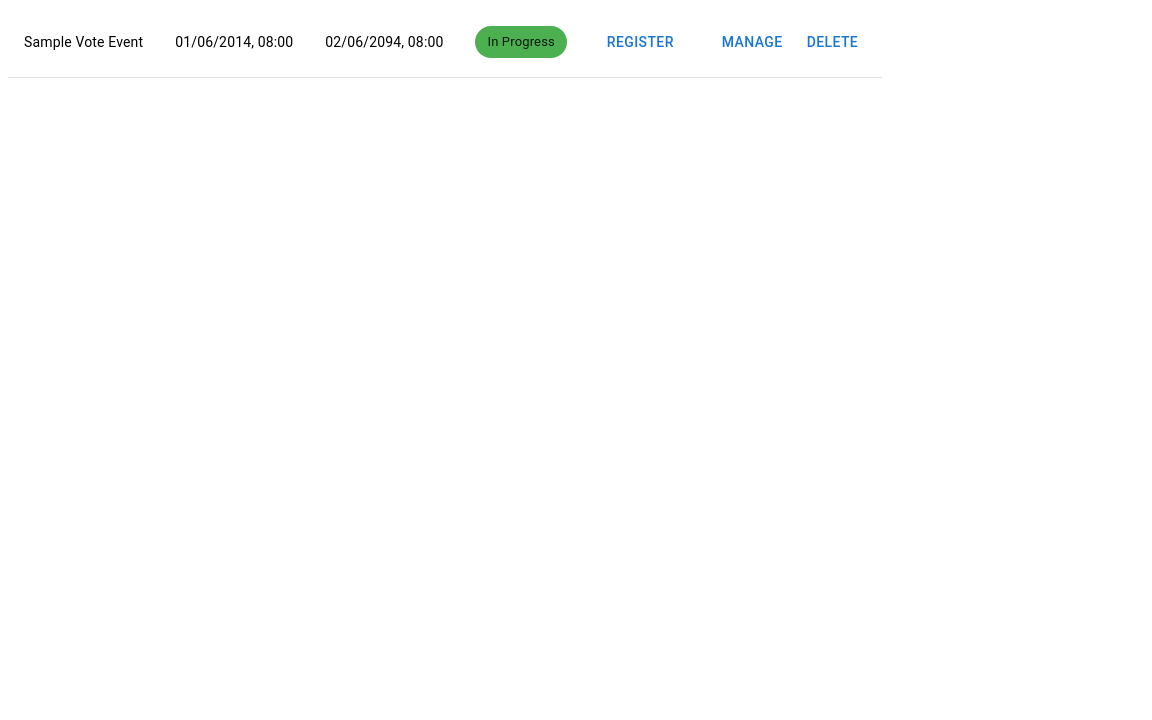
Test: <VoteEventRow /> › should have a register button if registration is open
This screenshot has width=1152, height=720.
Click the button "Register": (641, 43) [599,24,682,61]
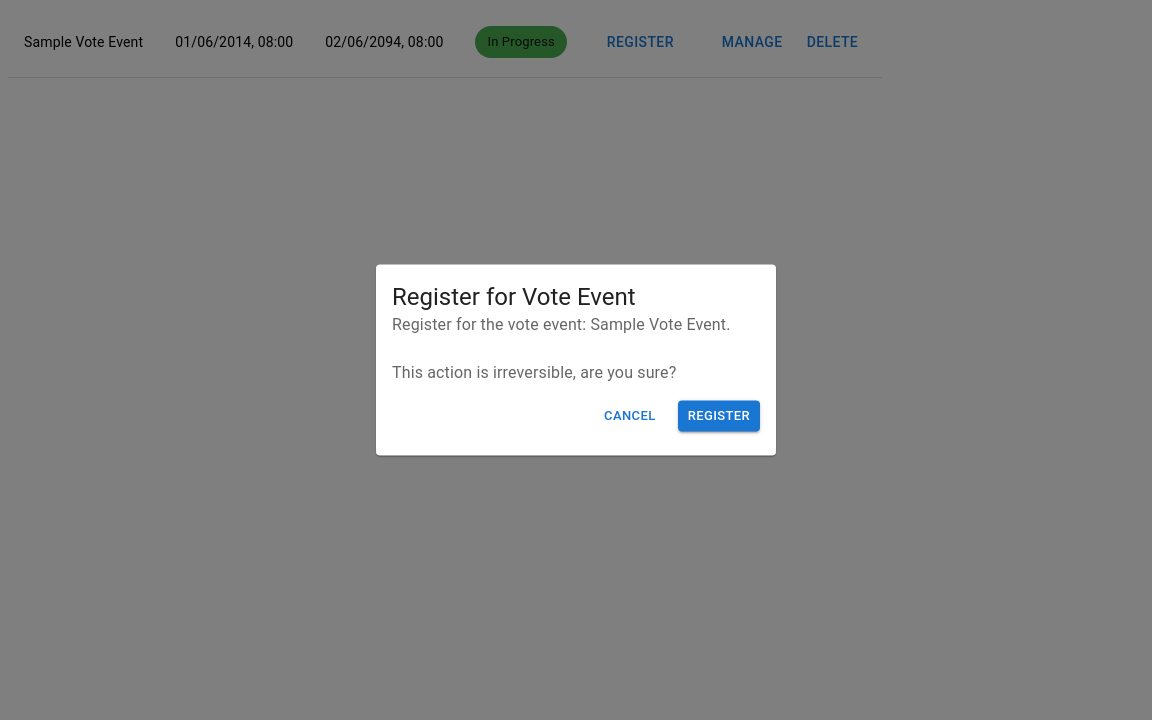
Now the element with id "register-for-vote-event-modal" is shown
